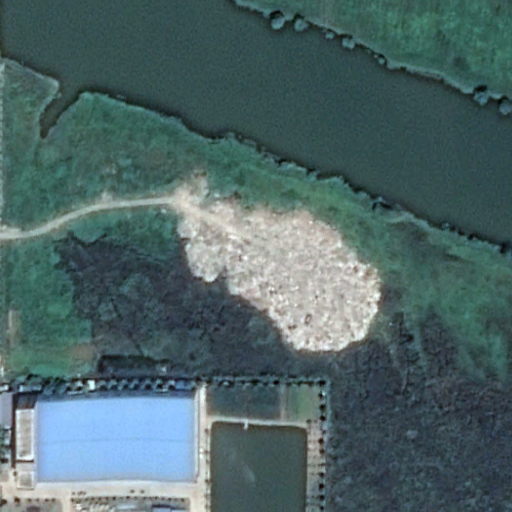msw: (176, 194, 381, 352)
